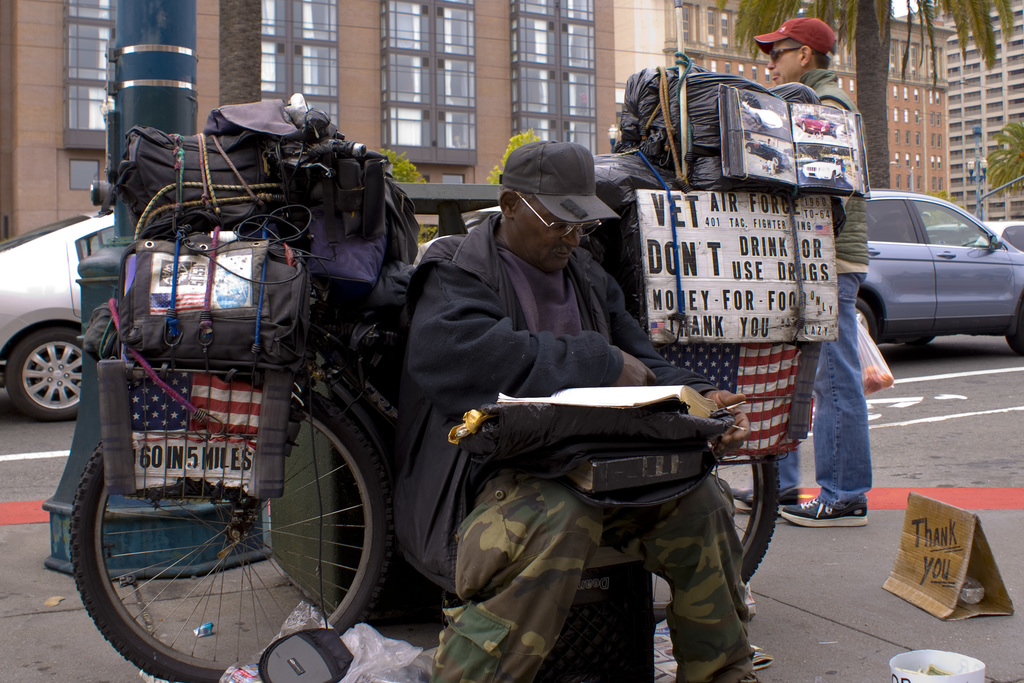Car: (830, 180, 1007, 355), (0, 214, 122, 423), (928, 214, 1023, 249)
